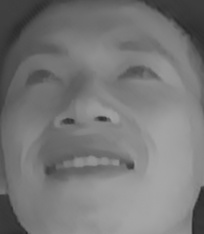eye: (115, 55, 163, 90), (21, 60, 64, 93)
mouth: (40, 143, 134, 189)
